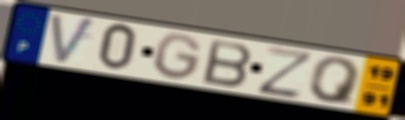0: (96, 22, 141, 76)
B: (200, 38, 254, 89)
G: (152, 31, 204, 83)
Q: (308, 56, 364, 107)
V: (48, 12, 98, 67)
Z: (254, 44, 316, 101)
